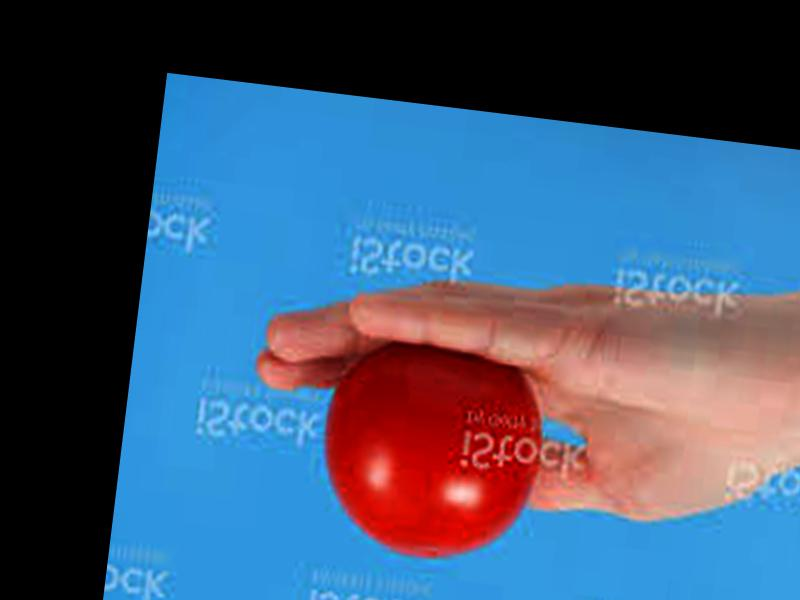Tomato: (313, 337, 548, 564)
